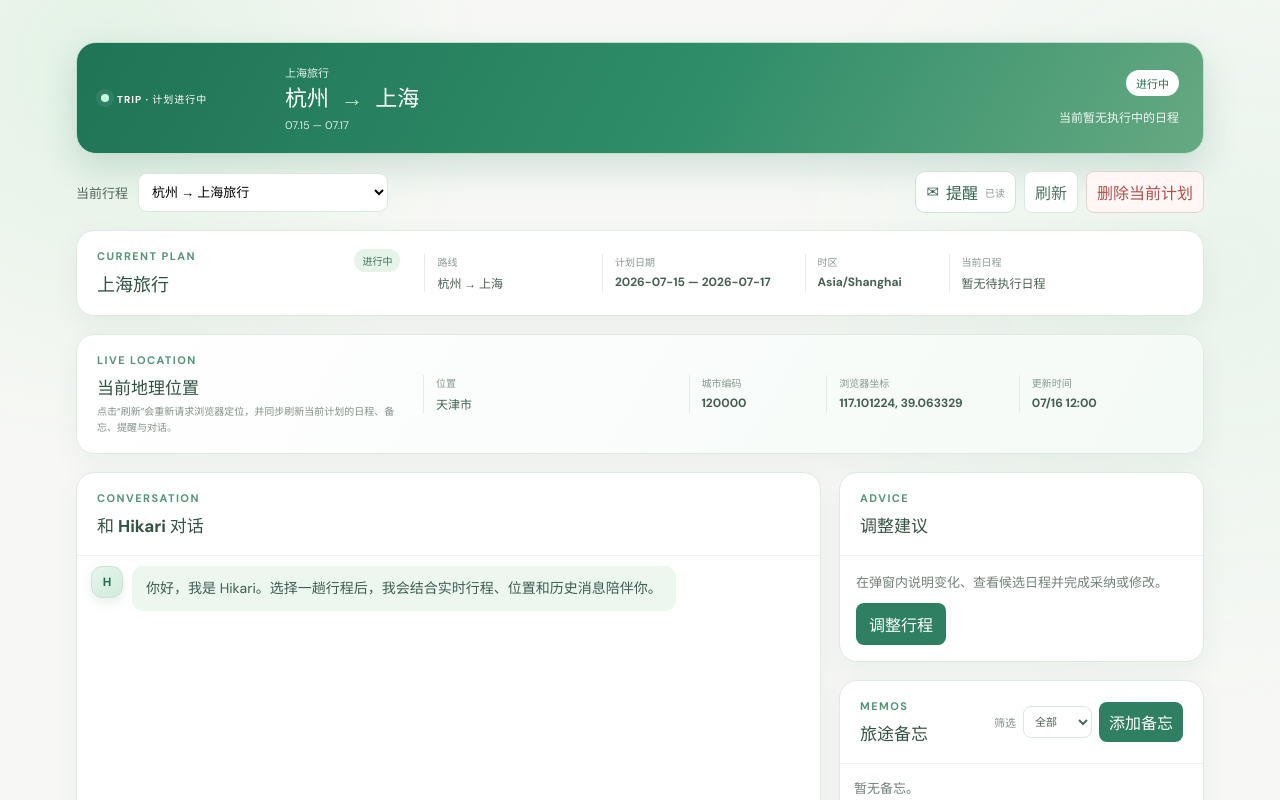
Test case: Companion adjustment dialog › shows a handled automatic recommendation result in the inbox
Click the button with class "notification-inbox-trigger".
click(966, 192)  # box [915,171,1016,213]
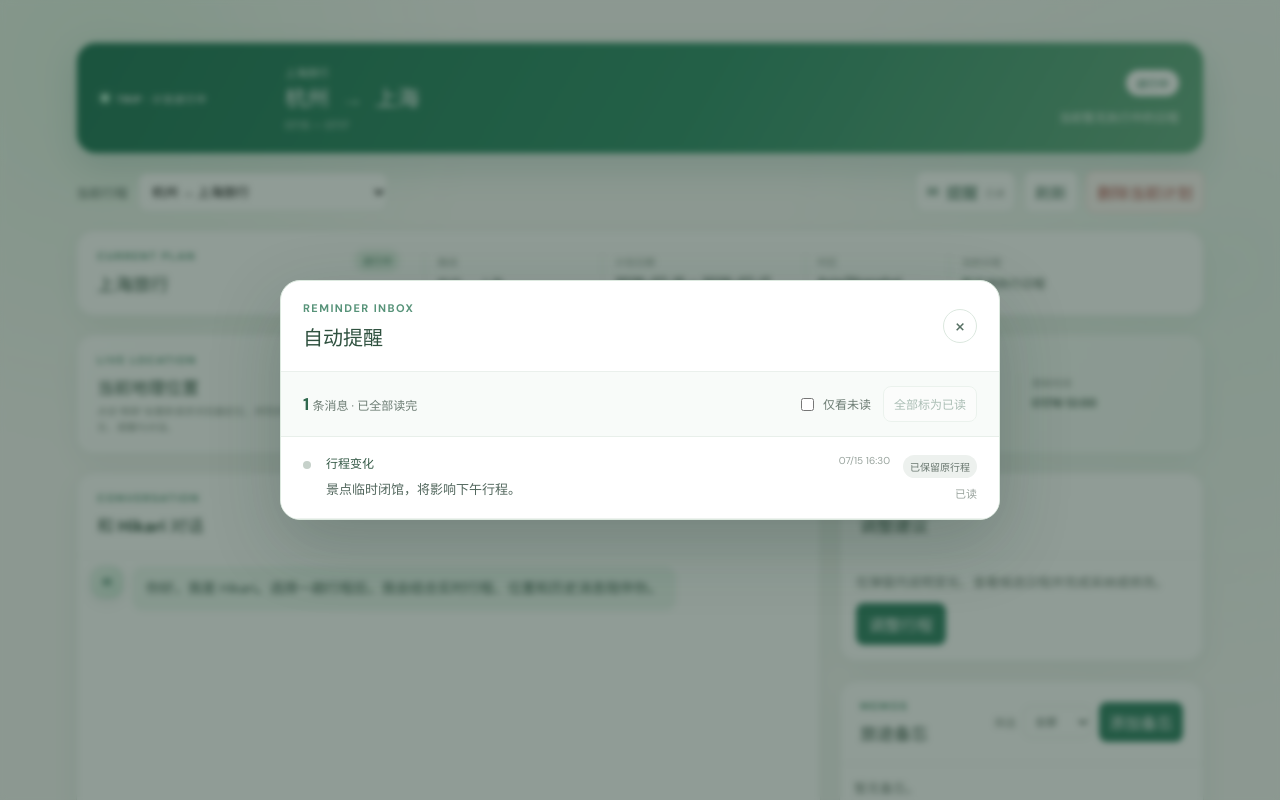
Result: the text "已保留原行程" is shown at [903,454,977,478]
